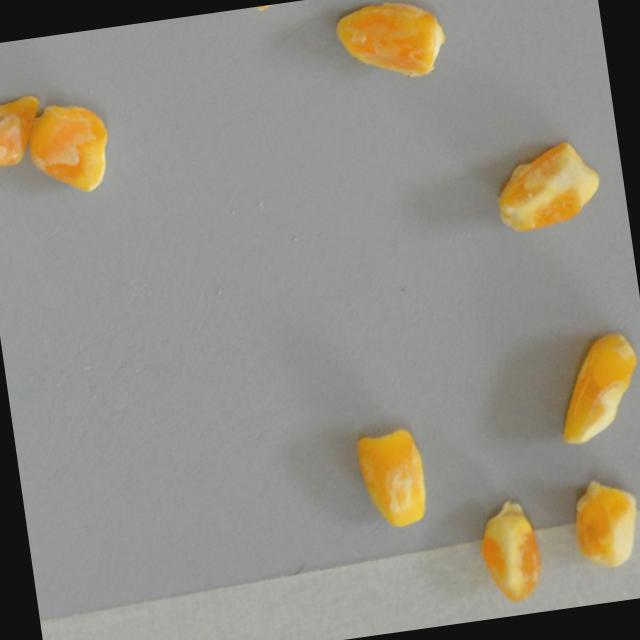pelicula: (488, 137, 606, 236), (547, 330, 640, 448), (329, 0, 449, 88), (348, 421, 439, 534), (20, 96, 116, 201), (473, 497, 544, 604), (565, 474, 640, 573), (0, 92, 48, 168)
